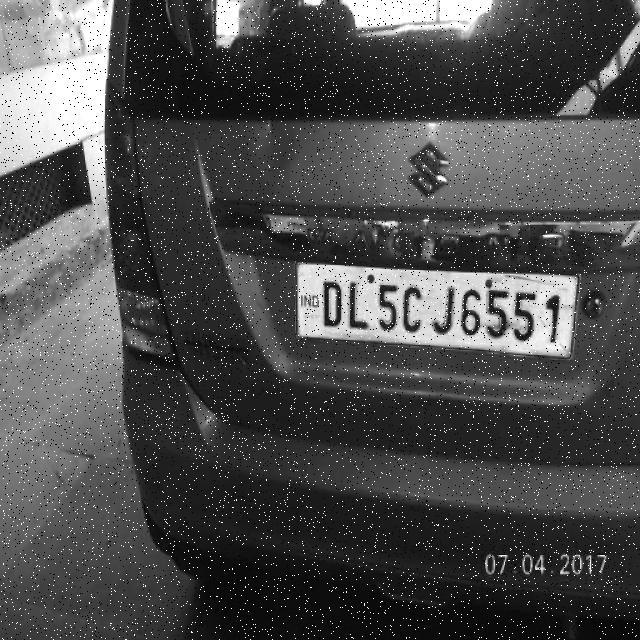car damage: (246, 126, 297, 197)
